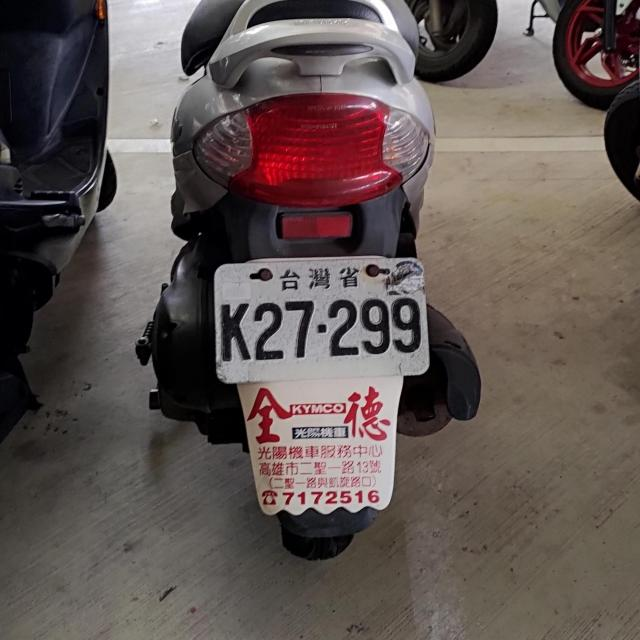W: (207, 249, 430, 384)
